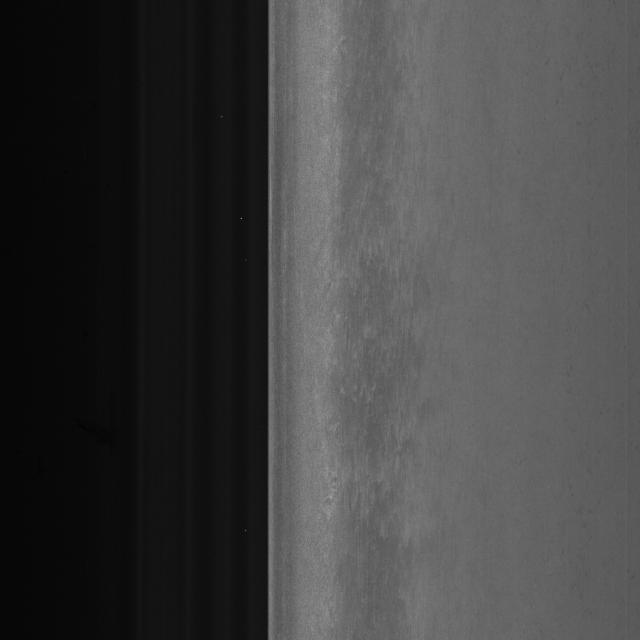inclusion: (333, 65, 432, 591)
